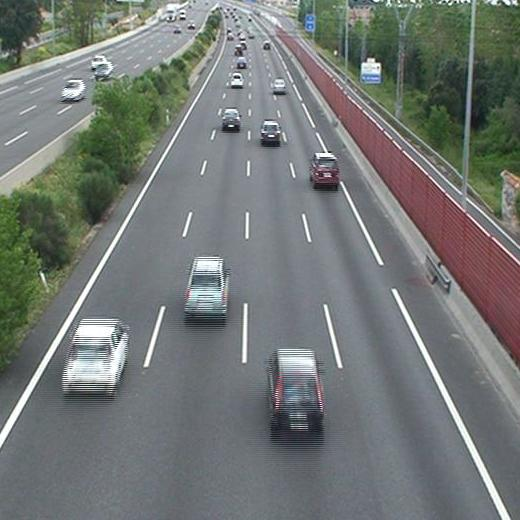car: (63, 320, 127, 390), (268, 351, 323, 426), (184, 257, 227, 316), (311, 154, 339, 185), (221, 109, 240, 129), (261, 122, 280, 142), (230, 74, 244, 87), (273, 79, 287, 92), (237, 58, 246, 67), (234, 45, 242, 54), (263, 41, 269, 49)
